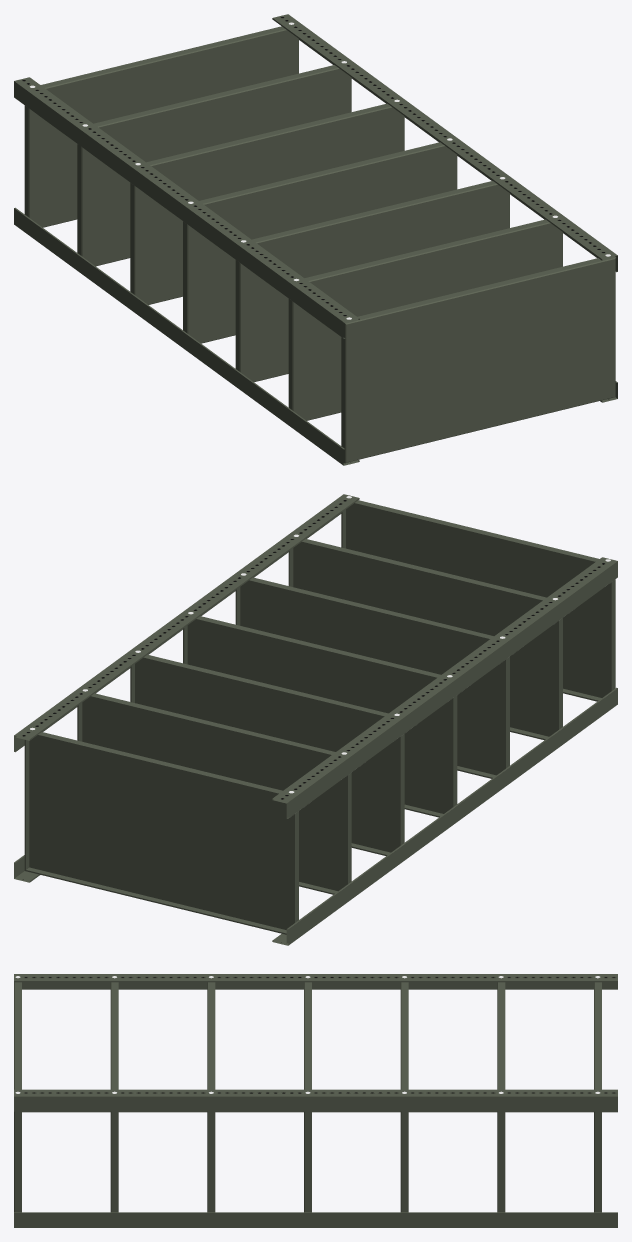
The model's file is picking-shelves.obj.
The picture shows the model from 3 angles, top to bottom: view 1: azimuth 30°, elevation 25°; view 2: azimuth 150°, elevation 25°; view 3: azimuth 270°, elevation 25°; orthographic projection. The views are drawn at different scales.
Visible parts, largest first — view 1: PickingShelvesShort.039; view 2: PickingShelvesShort.039; view 3: PickingShelvesShort.039.
Part boxes in pixels (left/top/right/bottom): PickingShelvesShort.039: left=14, top=14, right=617, bottom=465; PickingShelvesShort.039: left=14, top=494, right=617, bottom=945; PickingShelvesShort.039: left=14, top=974, right=617, bottom=1227.
Bounding box in the file's own units: 0.9144 × 0.4593 × 1.9.
Materials: 1 (1 with a texture image).
